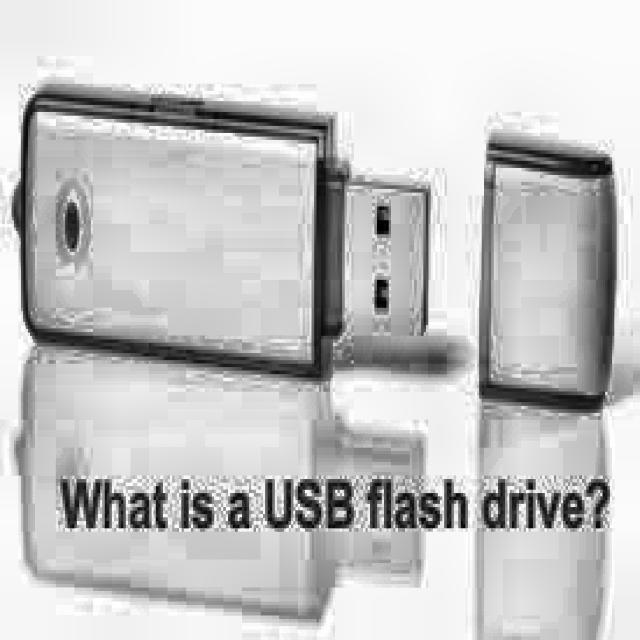Mug: (8, 75, 429, 384)
